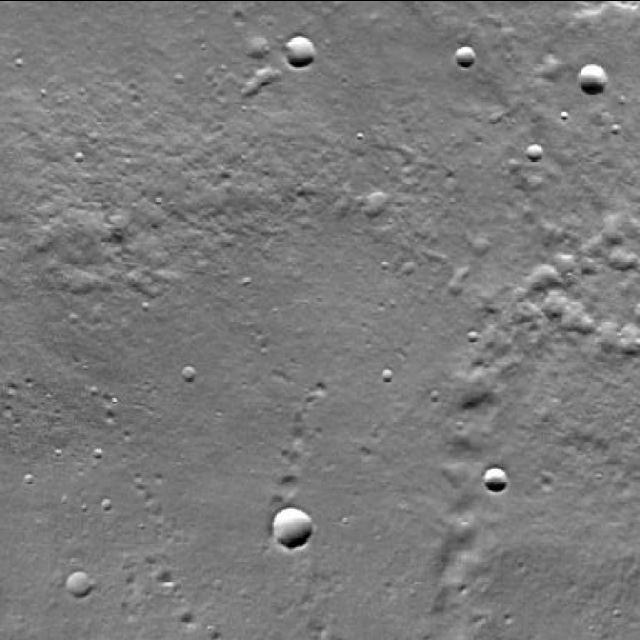crater: (270, 504, 313, 548), (576, 61, 610, 95), (286, 38, 316, 67), (539, 290, 567, 318), (592, 310, 620, 338), (66, 572, 92, 598), (362, 188, 387, 212), (484, 466, 507, 491), (247, 33, 270, 56), (536, 262, 558, 286), (618, 322, 640, 346), (455, 44, 477, 66), (575, 304, 593, 322), (182, 363, 198, 380), (528, 142, 542, 158)
